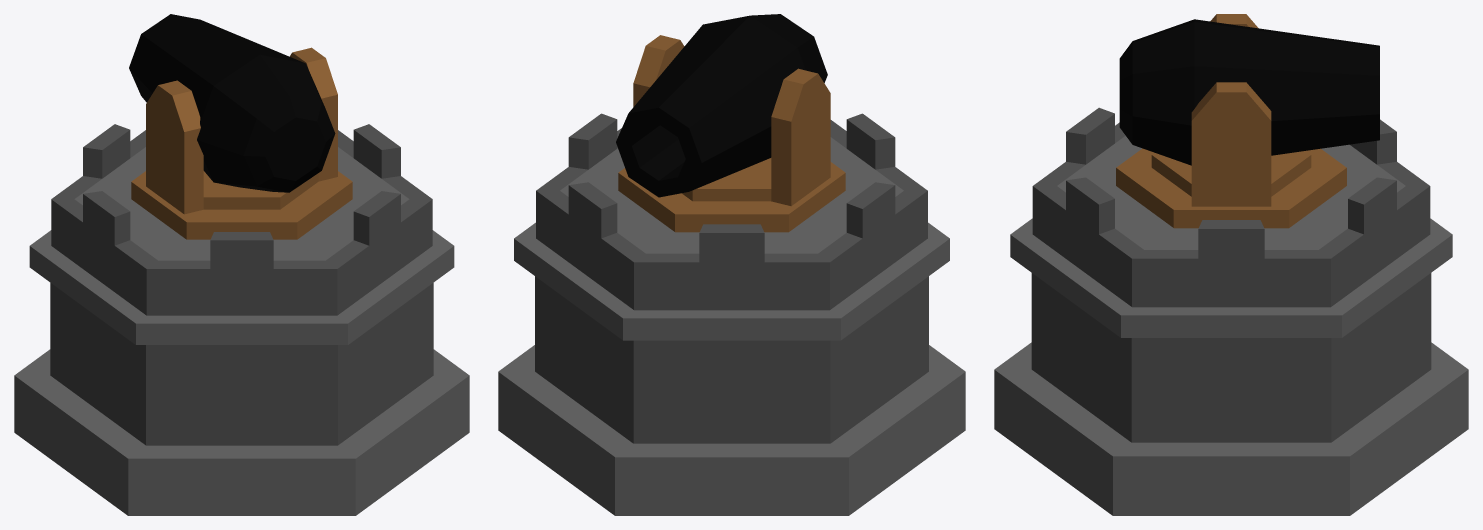
Rendered from Cannon.fbx.
3 renders of one model, left to right at view 1: azimuth 30°, elevation 25°; view 2: azimuth 150°, elevation 25°; view 3: azimuth 270°, elevation 25°, orthographic. The views are drawn at different scales.
Parts seen in each view (by area): view 1: Tower, Cannon, Cannon Holder; view 2: Tower, Cannon, Cannon Holder; view 3: Tower, Cannon, Cannon Holder.
Part boxes in pixels (left/top/right/bottom): Tower: left=14, top=124, right=469, bottom=515; Cannon: left=129, top=14, right=335, bottom=192; Cannon Holder: left=131, top=47, right=352, bottom=239; Tower: left=498, top=113, right=965, bottom=515; Cannon: left=616, top=14, right=827, bottom=197; Cannon Holder: left=618, top=35, right=845, bottom=232; Tower: left=994, top=107, right=1468, bottom=515; Cannon: left=1119, top=19, right=1379, bottom=165; Cannon Holder: left=1116, top=14, right=1346, bottom=228.
Size of the model in its own units: 8.96 by 9.8 by 10.35.
